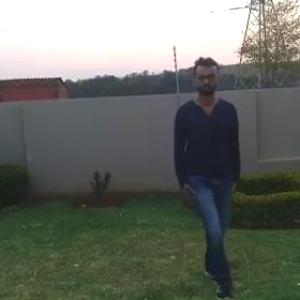follow: (170, 50, 242, 290)
